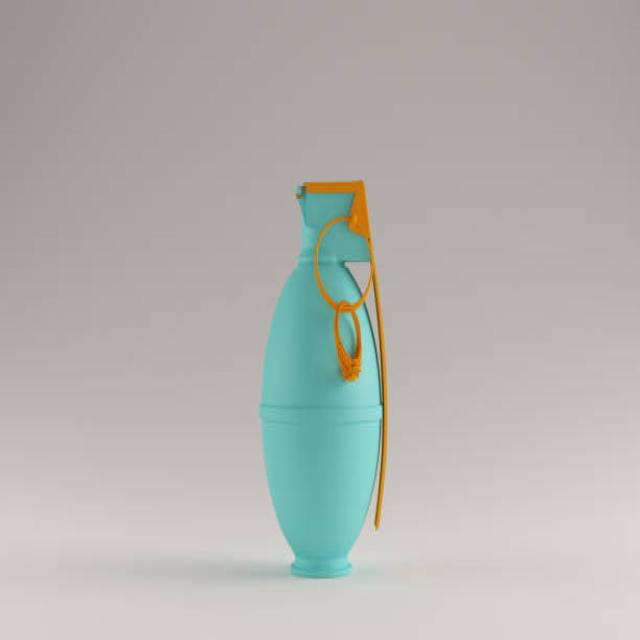grenade: (253, 161, 397, 585)
